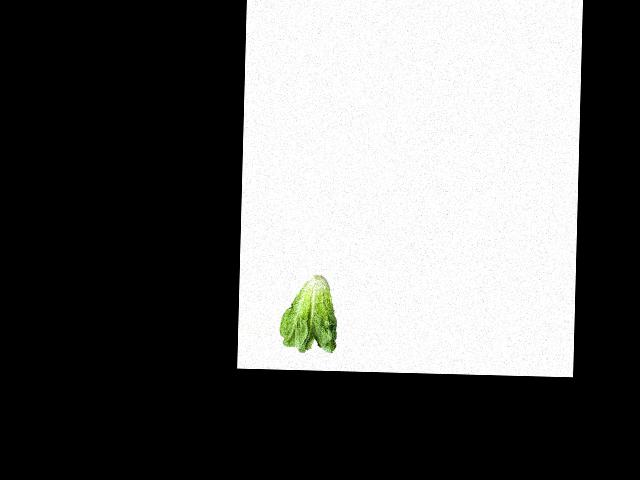lettuce: (279, 271, 339, 353)
